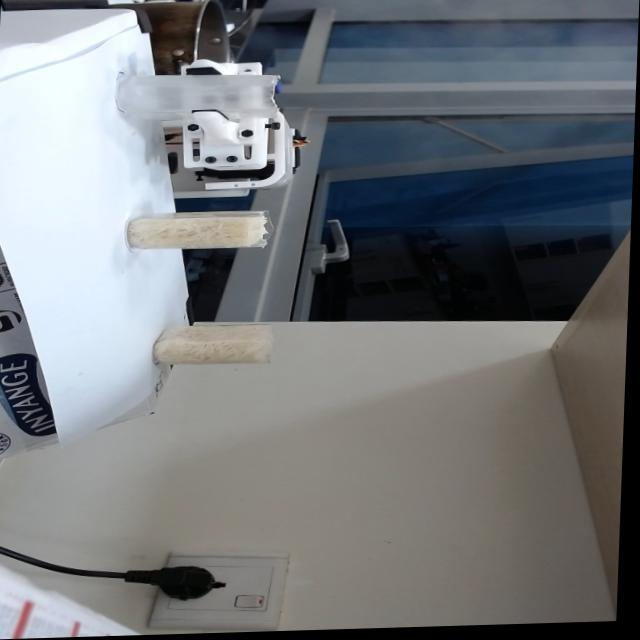raw_rice: (126, 211, 265, 254), (153, 323, 272, 372)
